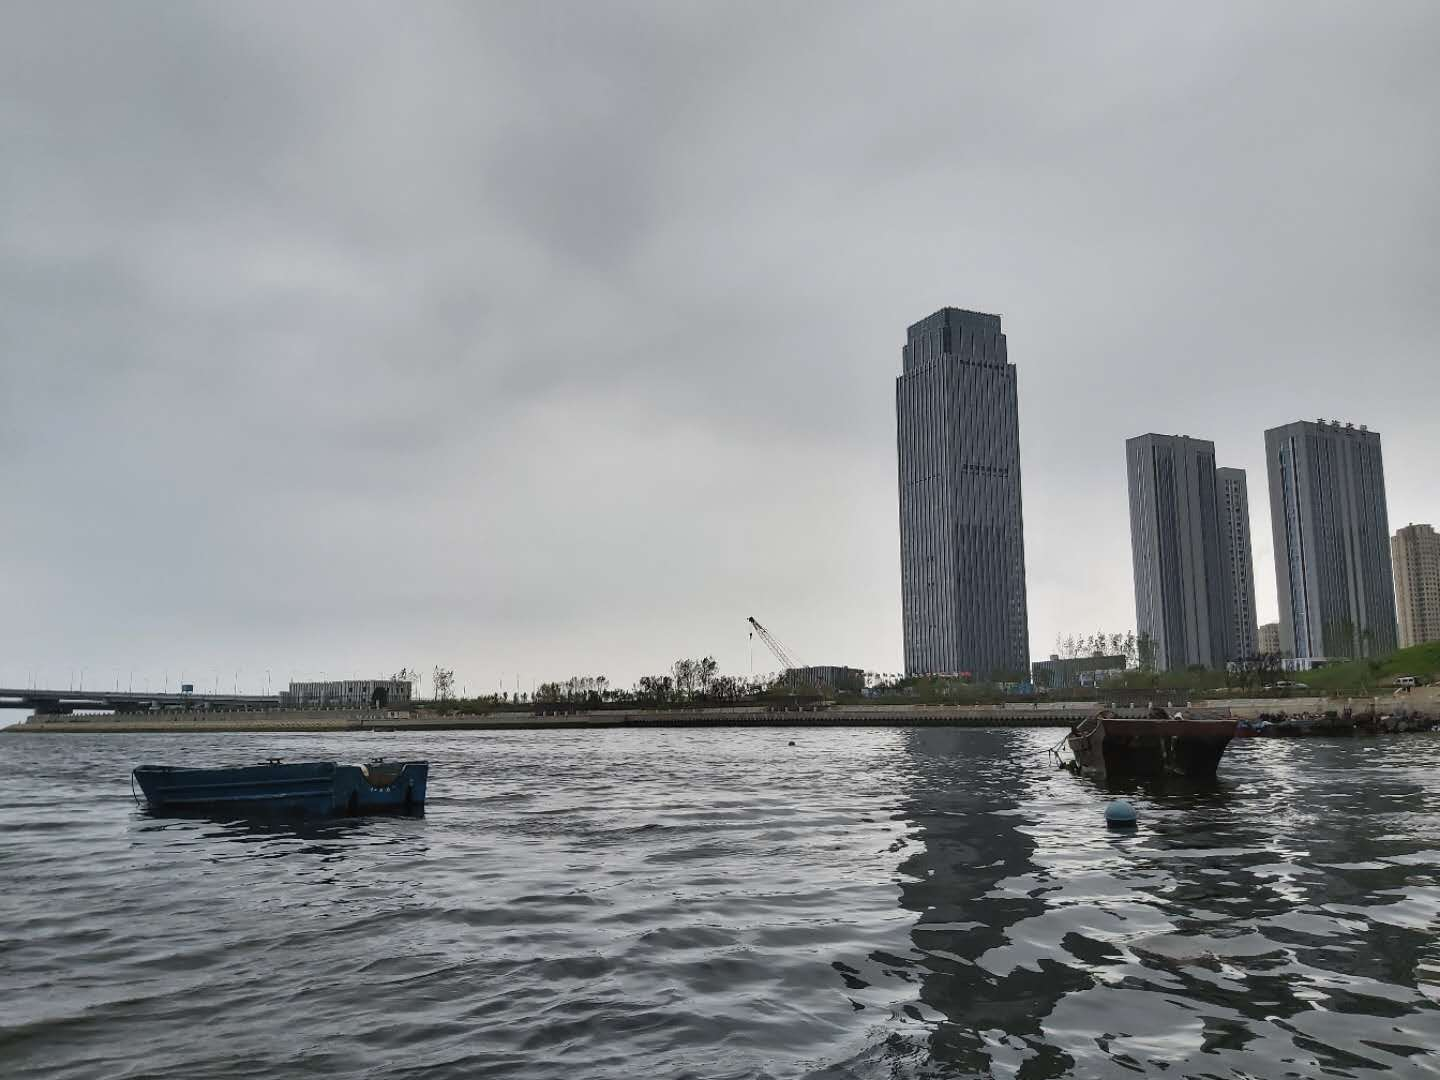ball: (1102, 794, 1144, 828), (781, 735, 807, 753)
boat: (121, 753, 437, 833), (1039, 697, 1244, 795)
bridge: (5, 674, 135, 722)
